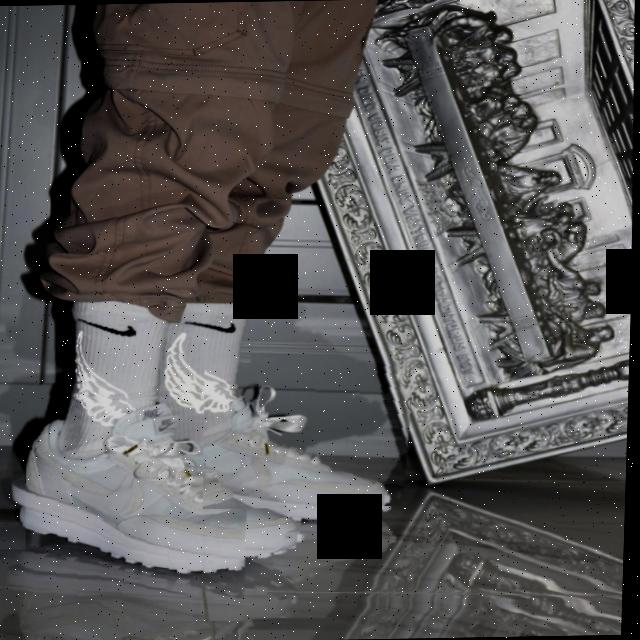shoe: (23, 344, 257, 624), (203, 361, 419, 509)
